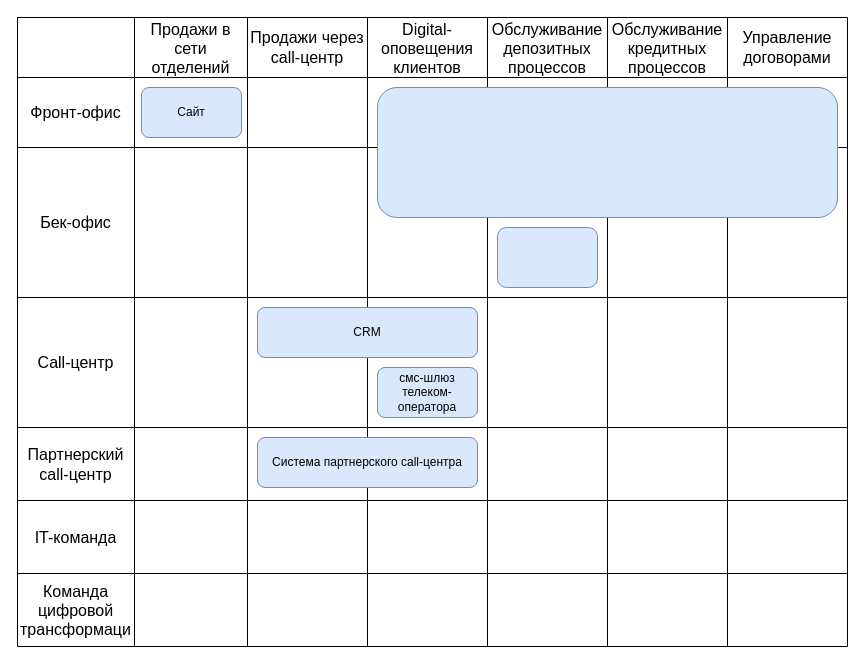
This 865x664 diagram has some shape labels left out. The shapes that lost their labels are listed below. From the top down, each one's centre as x and y in pixels, then its label:
At [607,152]: "АБС".
At [547,257]: "Интернет-банк".
